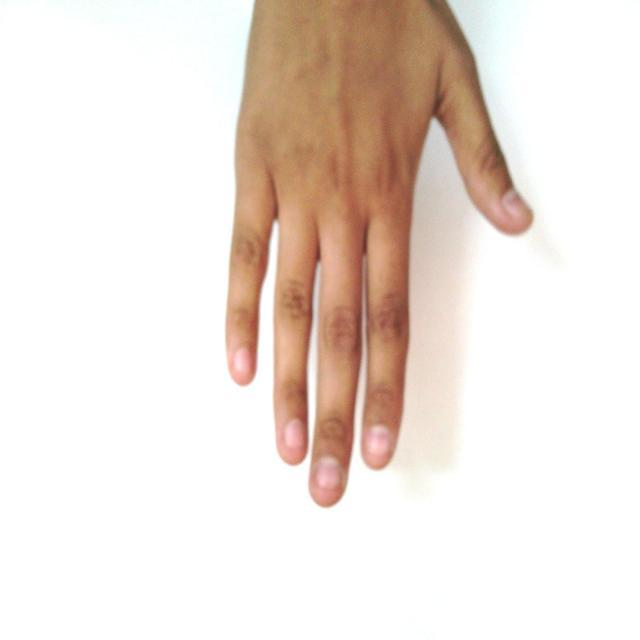Fingernail: (315, 458, 341, 490), (503, 190, 530, 220), (366, 426, 391, 457), (285, 421, 305, 451), (235, 349, 252, 377)
